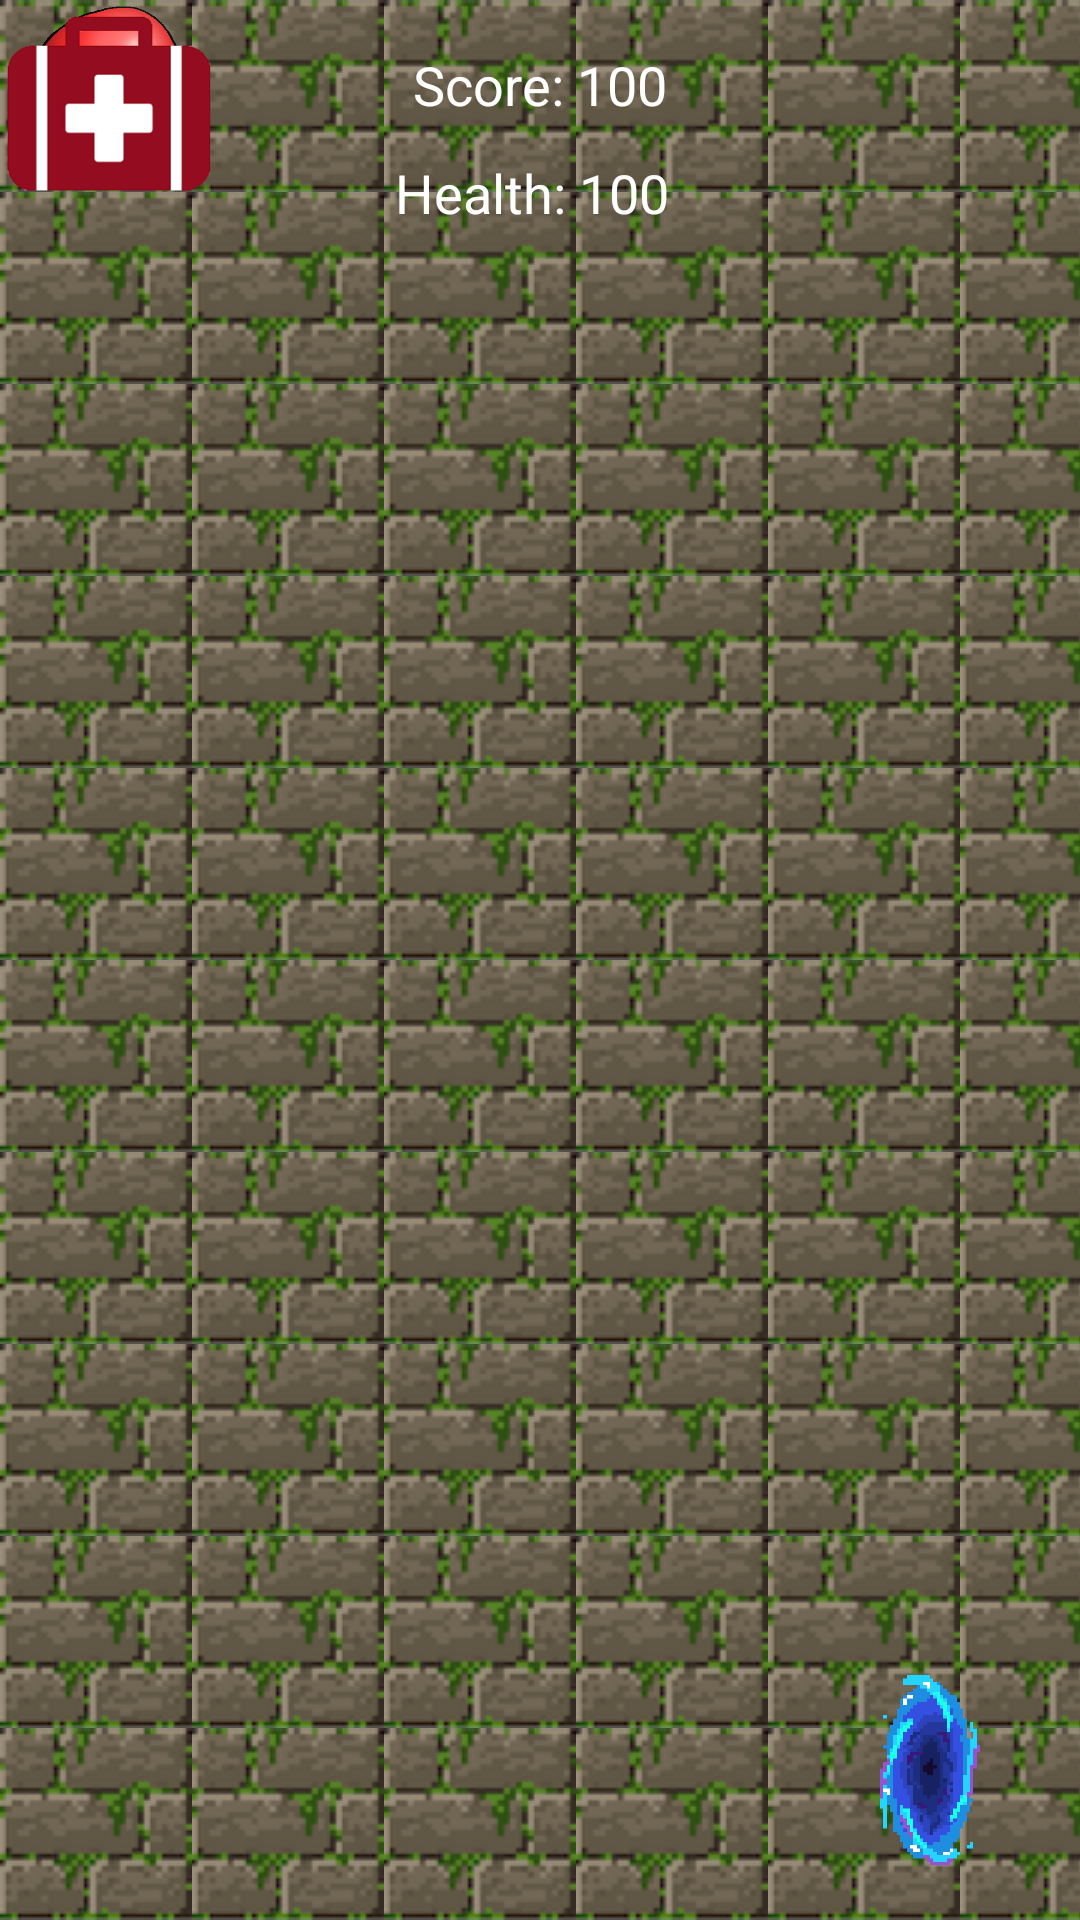

Point at icon controls on the screen. Image size 1080w x 1920h, points as [x,y].
portal: [930,1770]
